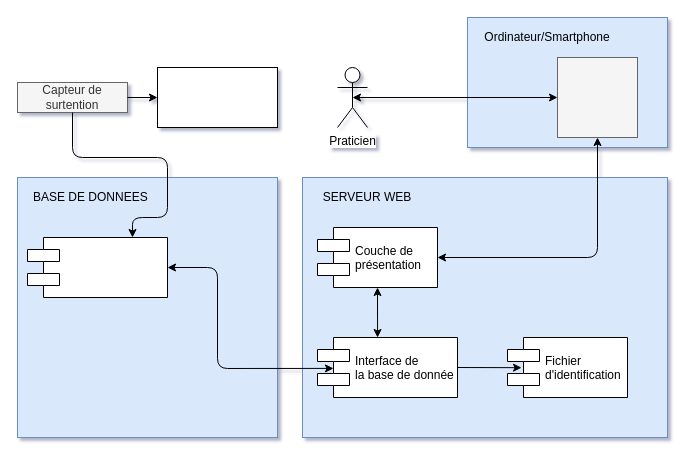
Some shapes in this 691 by 461 pixel diagram are drawn without their labels. The box of each missing label's shape, as (x1, y1, x2, y2) in pixels:
Machine laser: (156, 66, 278, 128)
MySQL Base de données: (26, 236, 168, 298)
Navigateur Web: (556, 56, 638, 138)
